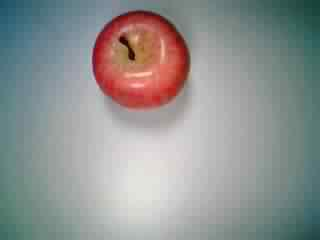apple: (86, 7, 191, 111)
